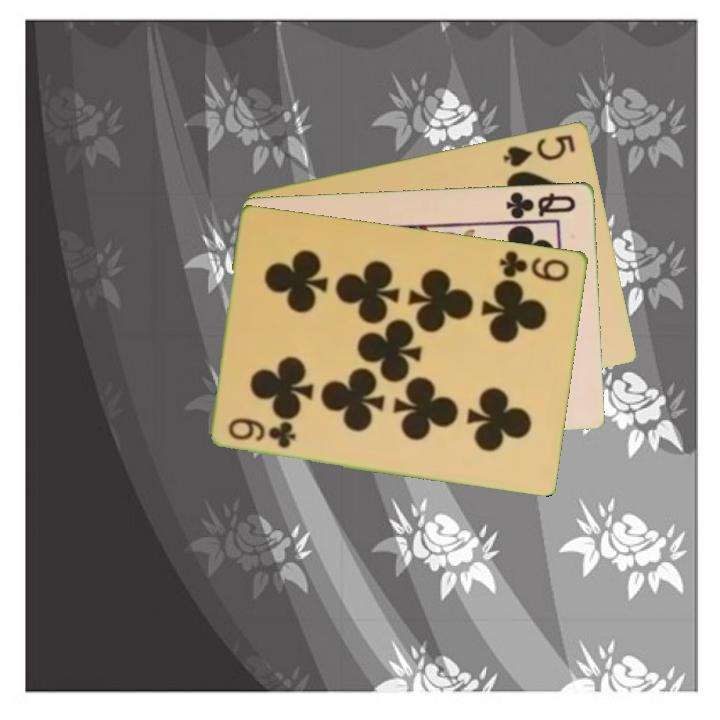5s: (499, 130, 579, 170)
9c: (496, 247, 573, 284), (225, 414, 300, 451)
Qc: (503, 187, 579, 222)
